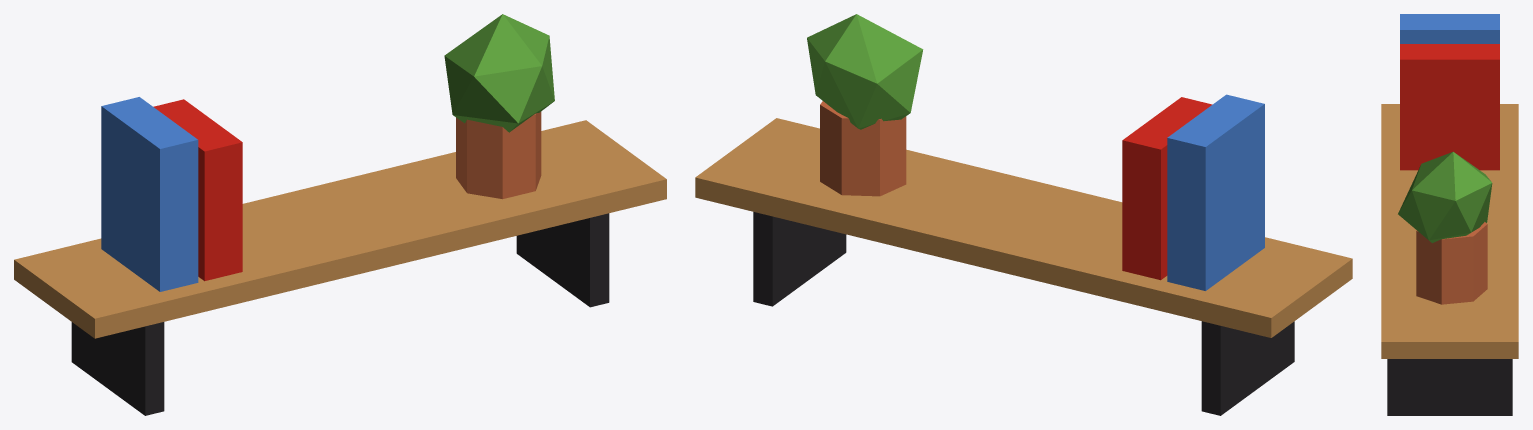
Rendered from wall_shelf.glb.
The picture shows the model from 3 angles, left to right: view 1: azimuth 30°, elevation 25°; view 2: azimuth 150°, elevation 25°; view 3: azimuth 270°, elevation 25°; orthographic projection. The views are drawn at different scales.
Visible parts, largest first — view 1: wall_shelf; view 2: wall_shelf; view 3: wall_shelf.
Part boxes in pixels (left/top/right/bottom): wall_shelf: left=14, top=14, right=666, bottom=415; wall_shelf: left=695, top=14, right=1352, bottom=415; wall_shelf: left=1381, top=14, right=1518, bottom=415.
Size of the model in its own units: 0.9 by 0.4165 by 0.22.
